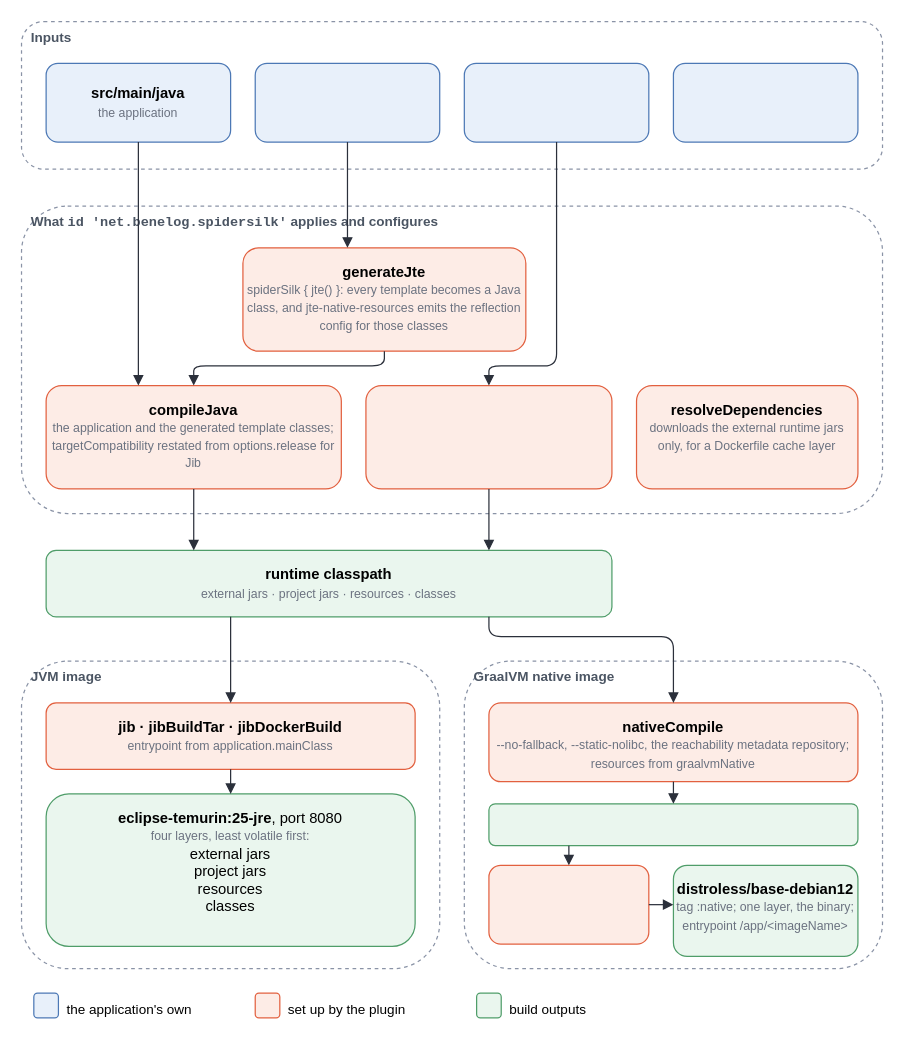
The diagram is 904 pixels wide and 1039 high, and some of its shapes have lost their labels. Here are the shapes that lost their labels. From the top down, the centre of each, then its label:
(x=347, y=102): src/main/resources/jte *.jte templates
(x=556, y=102): src/main/resources schema.sql, public/, ...
(x=765, y=102): build.gradle mainClass, jib.to.image, graalvmNative imageName
(x=488, y=436): processResources resources, plus any generated META-INF/native-image config
(x=673, y=824): build/native/nativeCompile/<imageName>
(x=568, y=904): jib … -Pnative the same tasks, re-aimed at the binary
